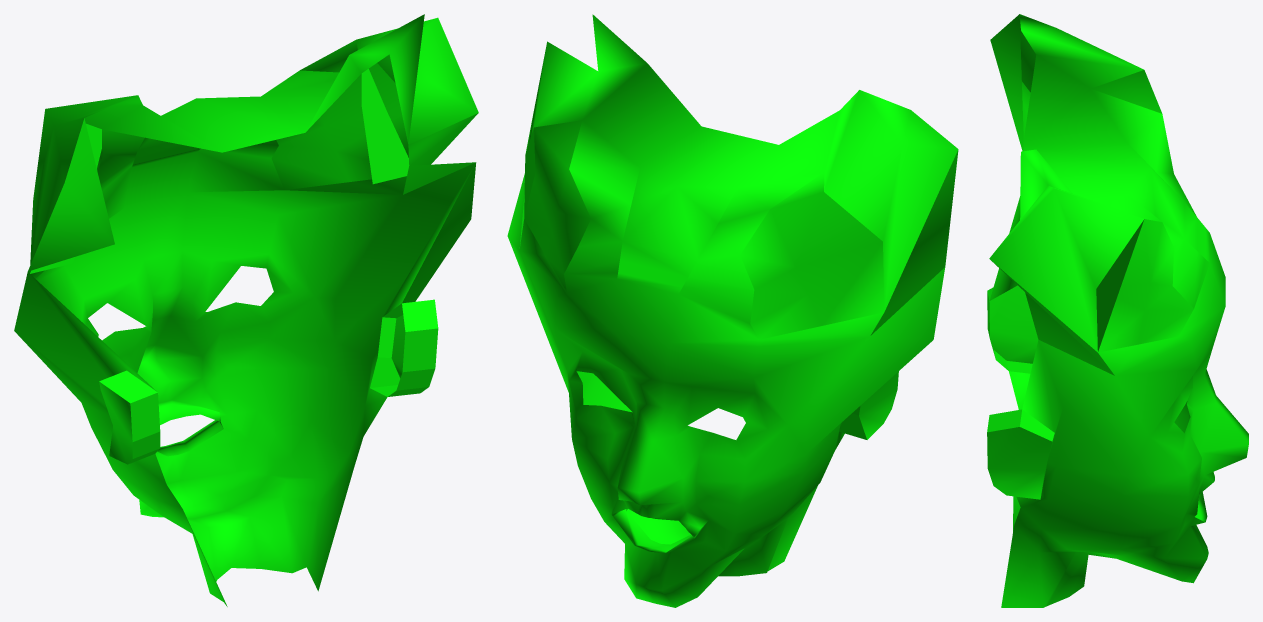
Rendered from SM_G_Mask.fbx.
3 renders of one model, left to right at view 1: azimuth 30°, elevation 25°; view 2: azimuth 150°, elevation 25°; view 3: azimuth 270°, elevation 25°, orthographic. The views are drawn at different scales.
Parts seen in each view (by area): view 1: SM_G_Mask; view 2: SM_G_Mask; view 3: SM_G_Mask.
Boxes of the visible parts, <box> form: SM_G_Mask: <box>14,14,478,606</box>; SM_G_Mask: <box>507,14,958,607</box>; SM_G_Mask: <box>987,14,1248,607</box>.
Bounding box in the file's own units: 25.96 × 29.64 × 13.67.
